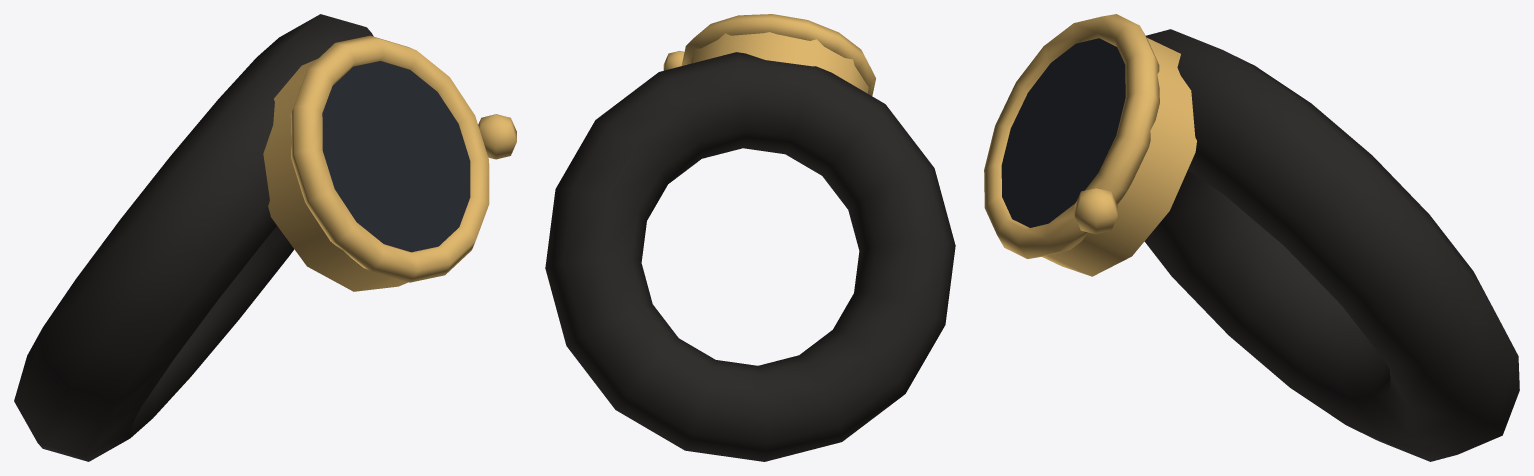
File: wristwatch_m.glb
3 views of the same model, side by side, from view 1: azimuth 30°, elevation 25°; view 2: azimuth 150°, elevation 25°; view 3: azimuth 270°, elevation 25° (orthographic). The views are drawn at different scales.
Visible parts, largest first — view 1: hair; view 2: hair; view 3: hair.
Boxes of the visible parts, x1,y1,x2,y2 form: hair: (14, 14, 516, 461); hair: (545, 14, 955, 461); hair: (984, 14, 1519, 461).
Bounding box in the file's own units: 0.0802 × 0.0832 × 0.0863.
